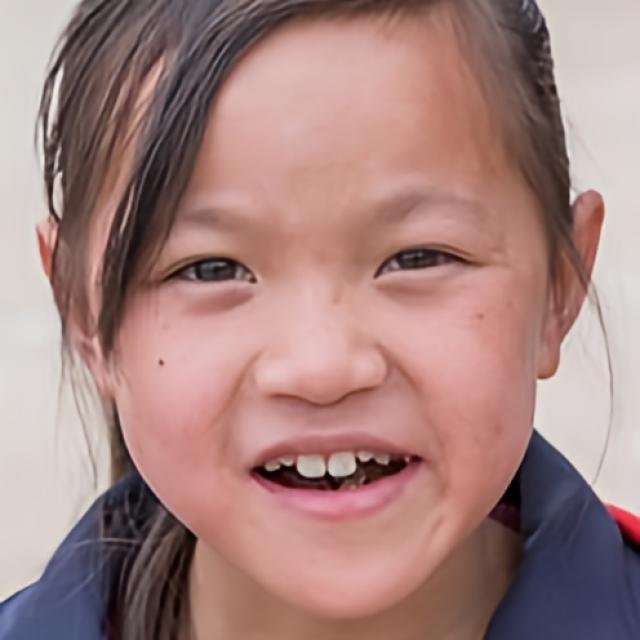disgust: (110, 0, 548, 623)
